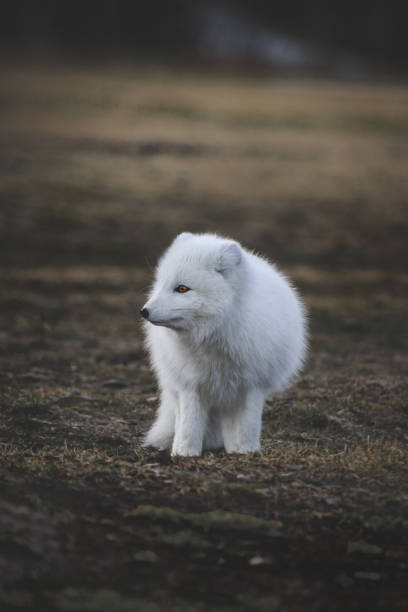arcticfox: (138, 254, 228, 343)
